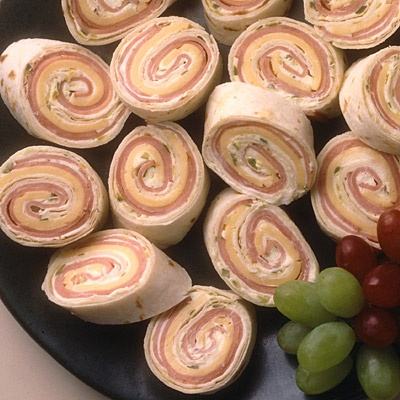background: (0, 0, 250, 250)
